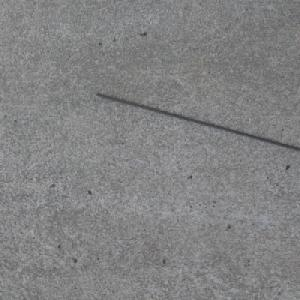LuggagePart: (96, 92, 300, 151)
